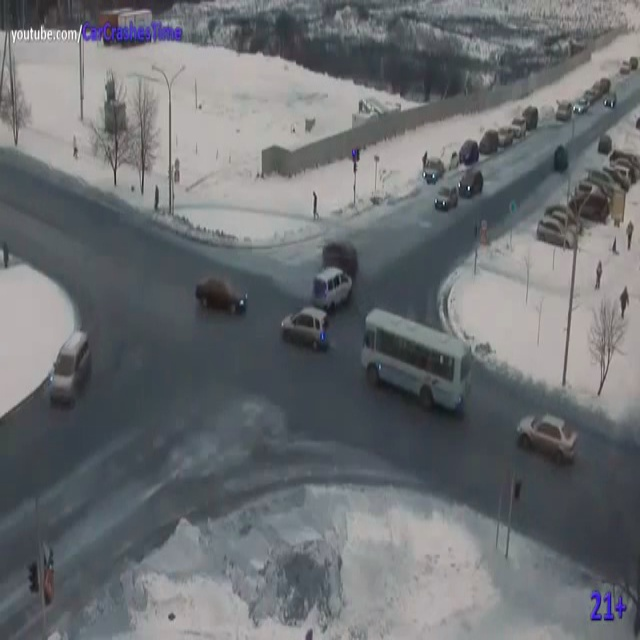acc: (299, 234, 370, 308)
